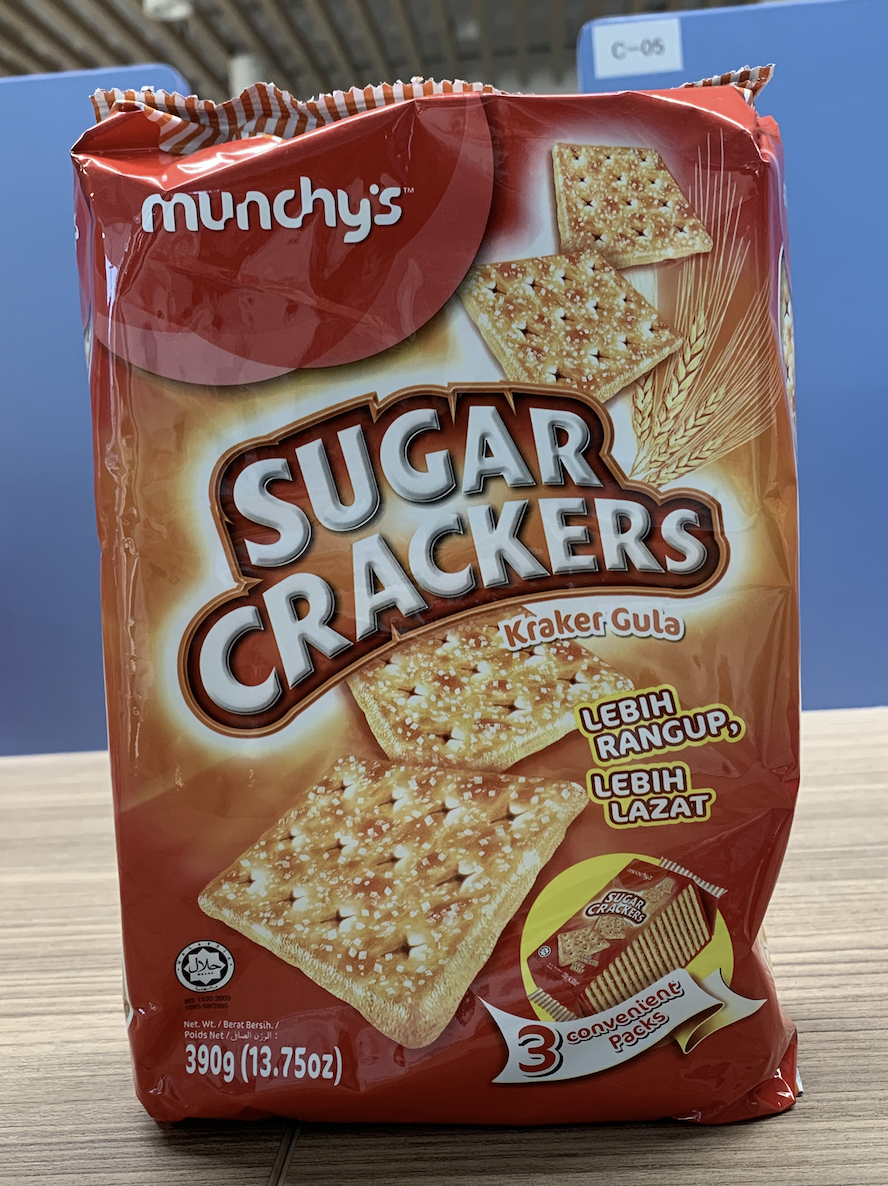crackers_150g: (143, 139, 752, 1093)
